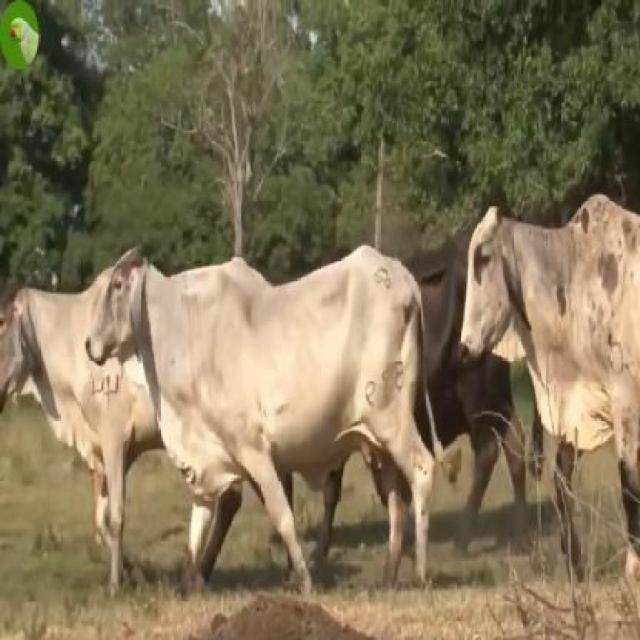Cow: (88, 243, 440, 592), (457, 193, 638, 584)
